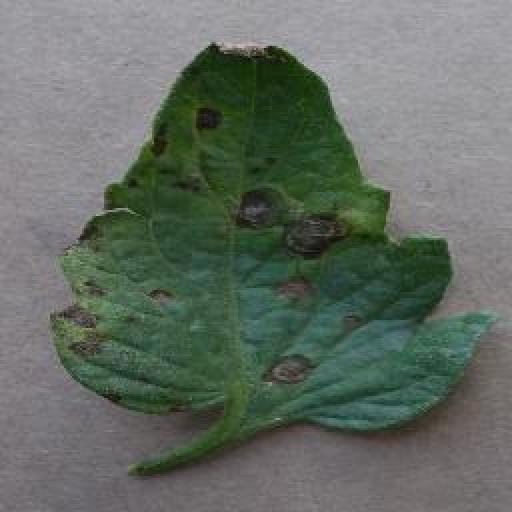Early Blight: (47, 39, 492, 432)
